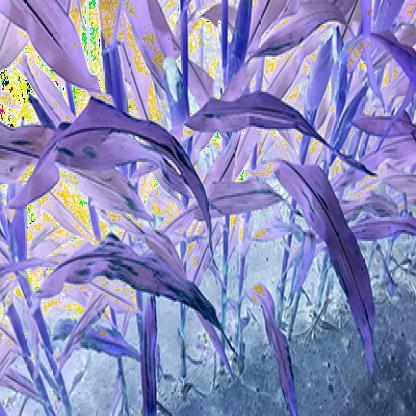Corn leaf blight: (250, 155, 378, 370), (12, 110, 214, 242), (34, 243, 222, 342), (1, 119, 150, 224), (180, 86, 378, 164), (158, 173, 287, 239), (244, 282, 300, 414)
